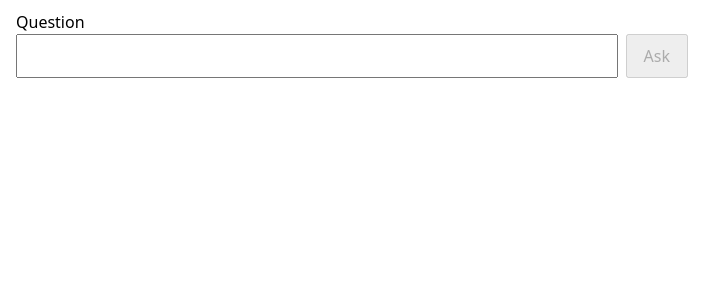
Test case: AskForm › shows the empty-sources message
Type "What is alpha?" into the field labelled "Question" at (317, 56), box [16,34,618,78]
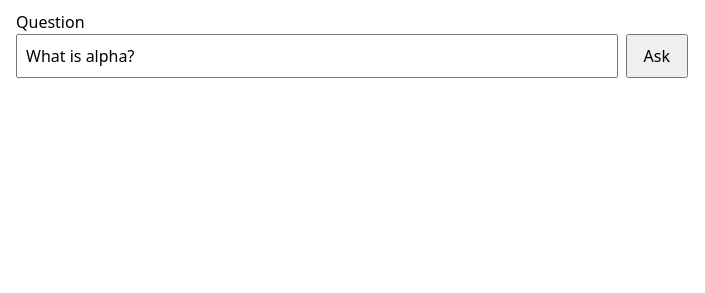
Click the button "Ask" at (657, 56), box [626,34,688,78]
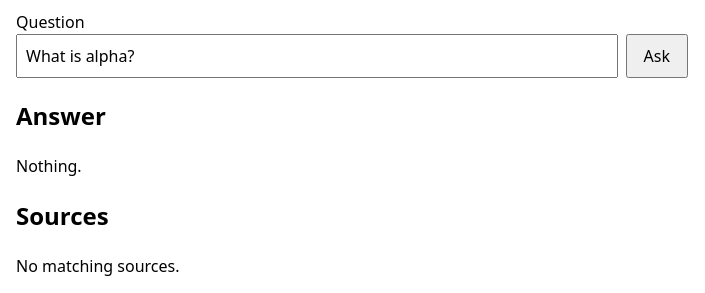
Result: the text "No matching sources." is shown at [16,255,180,277]
Result: the text "Nothing." is shown at [16,155,82,177]
Result: the heading "Sources" is shown at [16,199,109,232]
